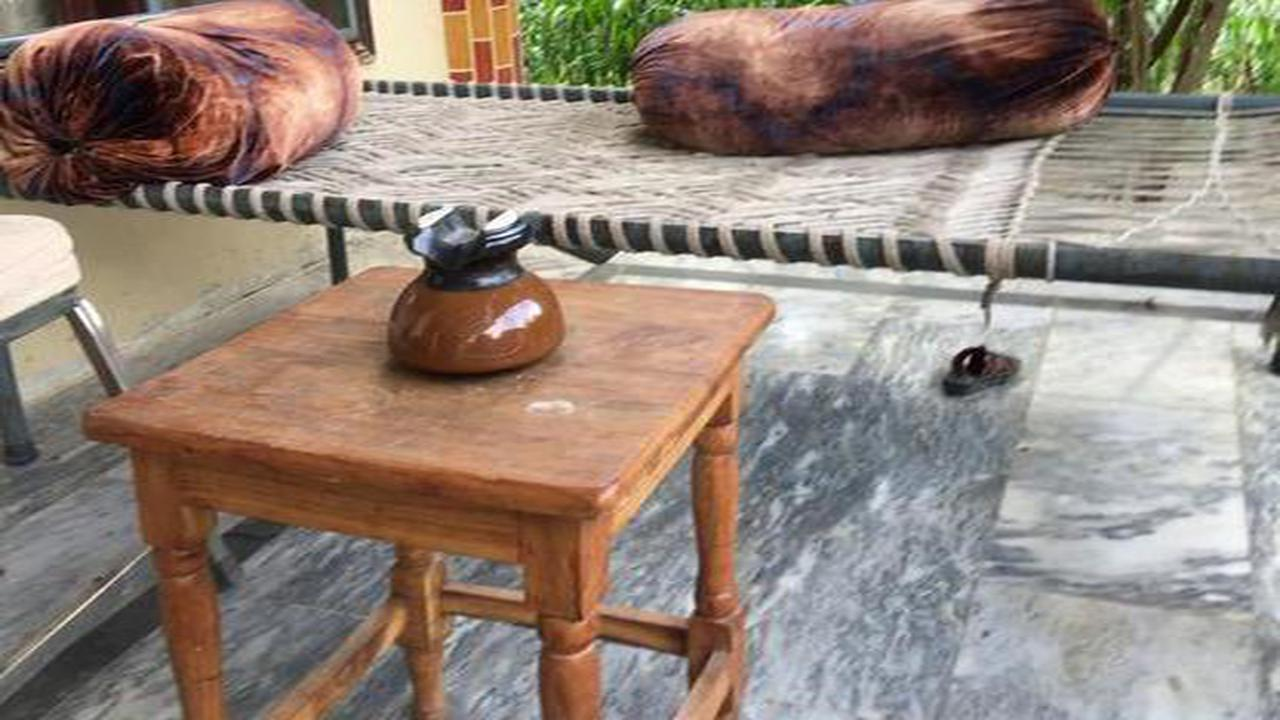insulator_pin: (367, 185, 594, 383)
